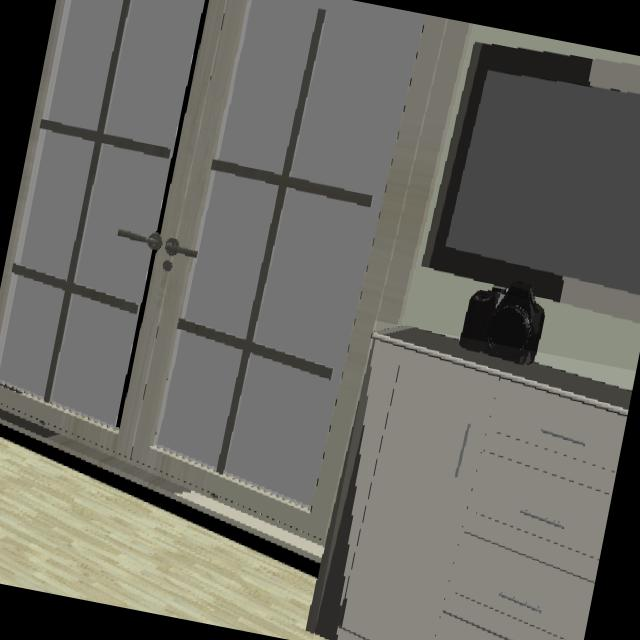cabinet: (333, 327, 631, 640)
